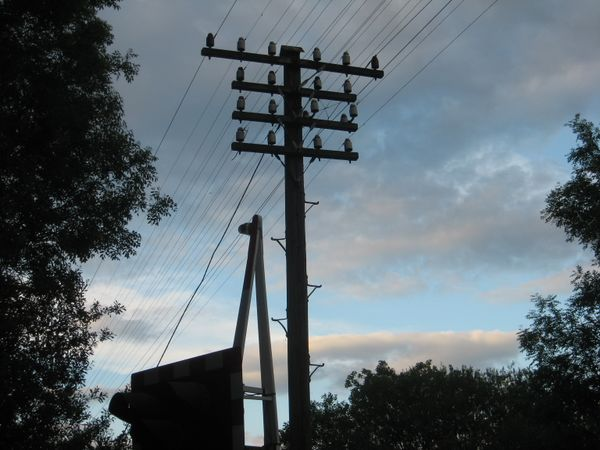utility_pole: (188, 23, 392, 192)
